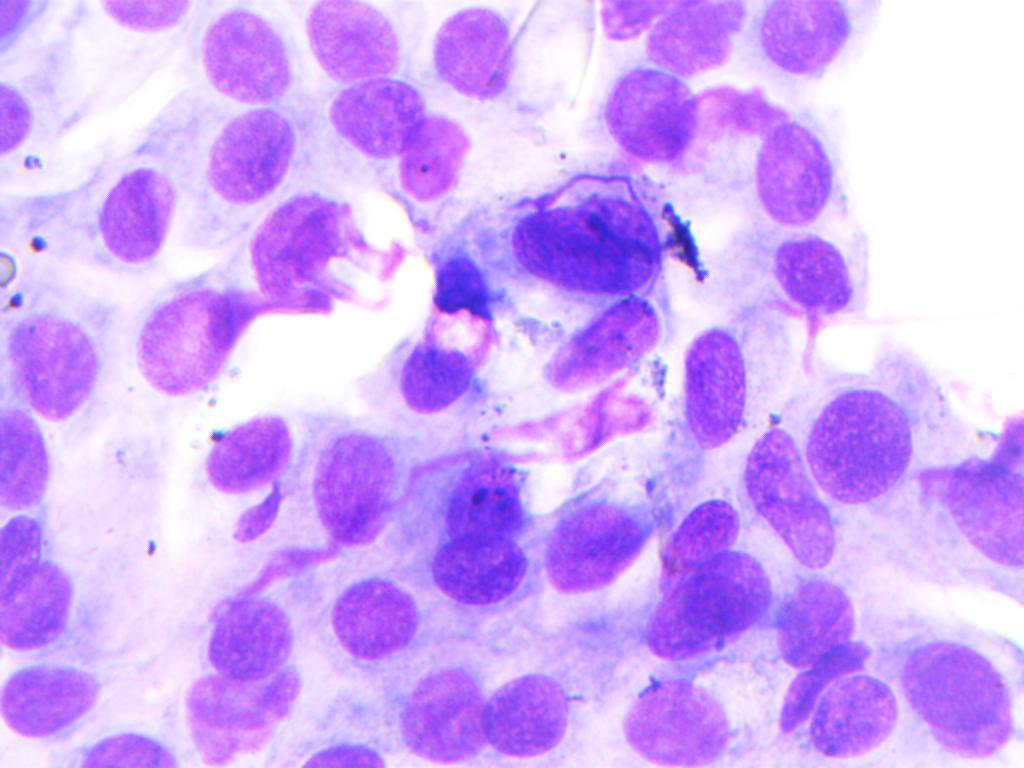artifact: (248, 195, 379, 308), (507, 380, 663, 464), (414, 237, 507, 328), (658, 190, 717, 283)
epithelial: (629, 537, 785, 667), (501, 187, 678, 300), (429, 453, 544, 624), (896, 611, 1023, 754), (725, 80, 844, 226), (536, 288, 693, 398), (121, 270, 246, 408), (940, 408, 1024, 583), (604, 668, 750, 767), (744, 418, 838, 567), (593, 59, 717, 167), (589, 1, 754, 82), (86, 147, 190, 275), (189, 104, 303, 215), (0, 657, 138, 748), (3, 299, 106, 420), (806, 388, 917, 499), (734, 226, 865, 317), (317, 73, 436, 173), (307, 418, 396, 549), (0, 510, 80, 654), (748, 574, 875, 663), (373, 325, 490, 420), (674, 316, 757, 449), (477, 653, 576, 764), (549, 501, 662, 598), (790, 669, 903, 766), (430, 1, 531, 103), (197, 4, 297, 107), (648, 481, 740, 591), (318, 576, 431, 665), (392, 661, 484, 766), (174, 598, 293, 679), (184, 409, 297, 490), (387, 118, 489, 206), (300, 0, 403, 79), (761, 0, 853, 81), (0, 402, 58, 508), (66, 720, 180, 768), (84, 0, 207, 44), (283, 740, 392, 768)
